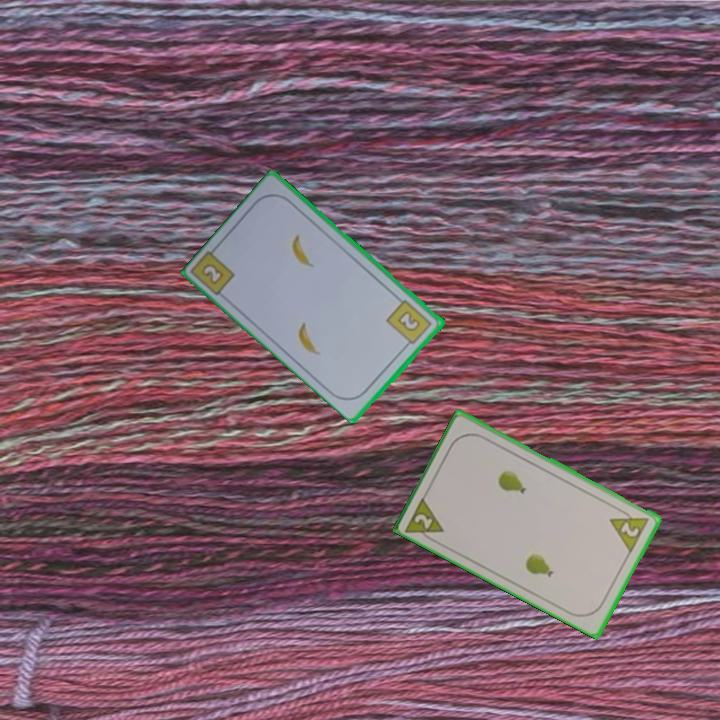2b: (383, 296, 435, 350), (198, 260, 227, 288)
2p: (402, 492, 448, 545), (606, 503, 652, 555)
